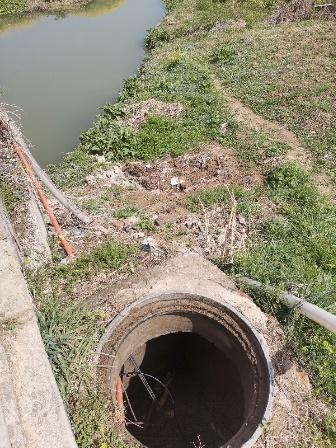wellcover: (89, 287, 284, 448)
